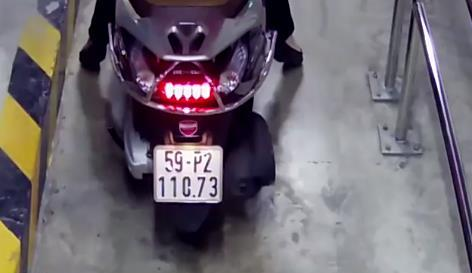lisence: (153, 144, 223, 204)
